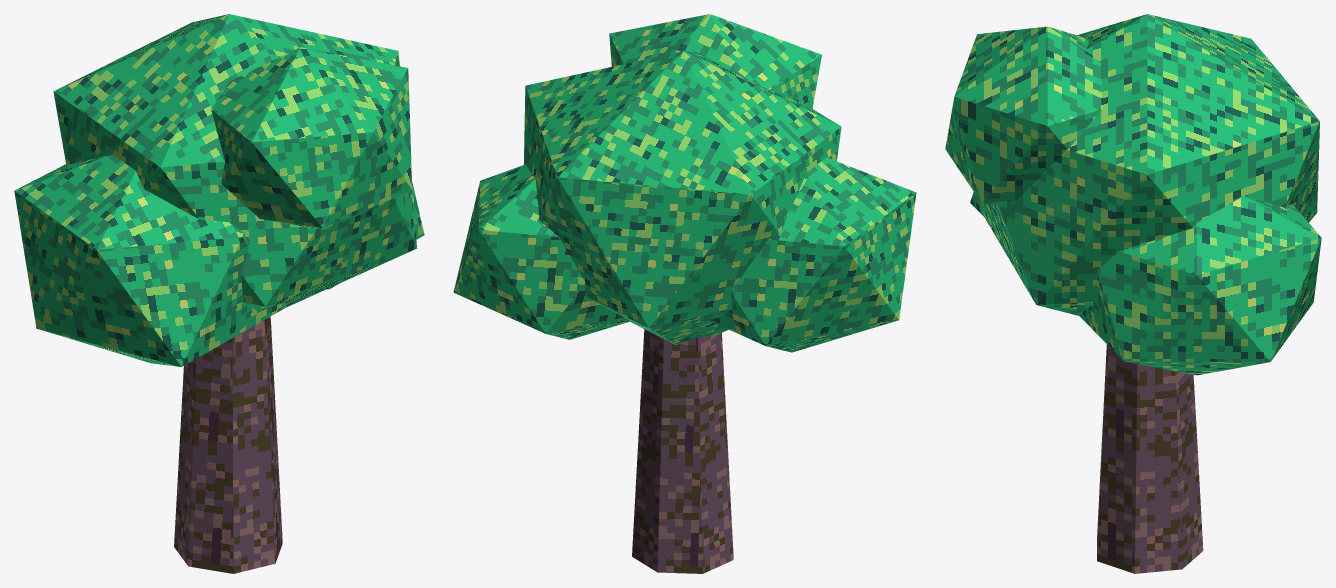
The model's file is r01_arvore_1.glb.
The picture shows the model from 3 angles, left to right: view 1: azimuth 30°, elevation 25°; view 2: azimuth 150°, elevation 25°; view 3: azimuth 270°, elevation 25°; orthographic projection. The views are drawn at different scales.
Visible parts, largest first — view 1: r01_arvore_1; view 2: r01_arvore_1; view 3: r01_arvore_1.
Boxes of the visible parts, box(x1,y1,x2,y2) form: r01_arvore_1: box(14, 14, 424, 573); r01_arvore_1: box(453, 14, 916, 573); r01_arvore_1: box(945, 14, 1321, 573).
Bounding box in the file's own units: 3.75 × 4.76 × 3.03.
2 materials, 2 textured.
